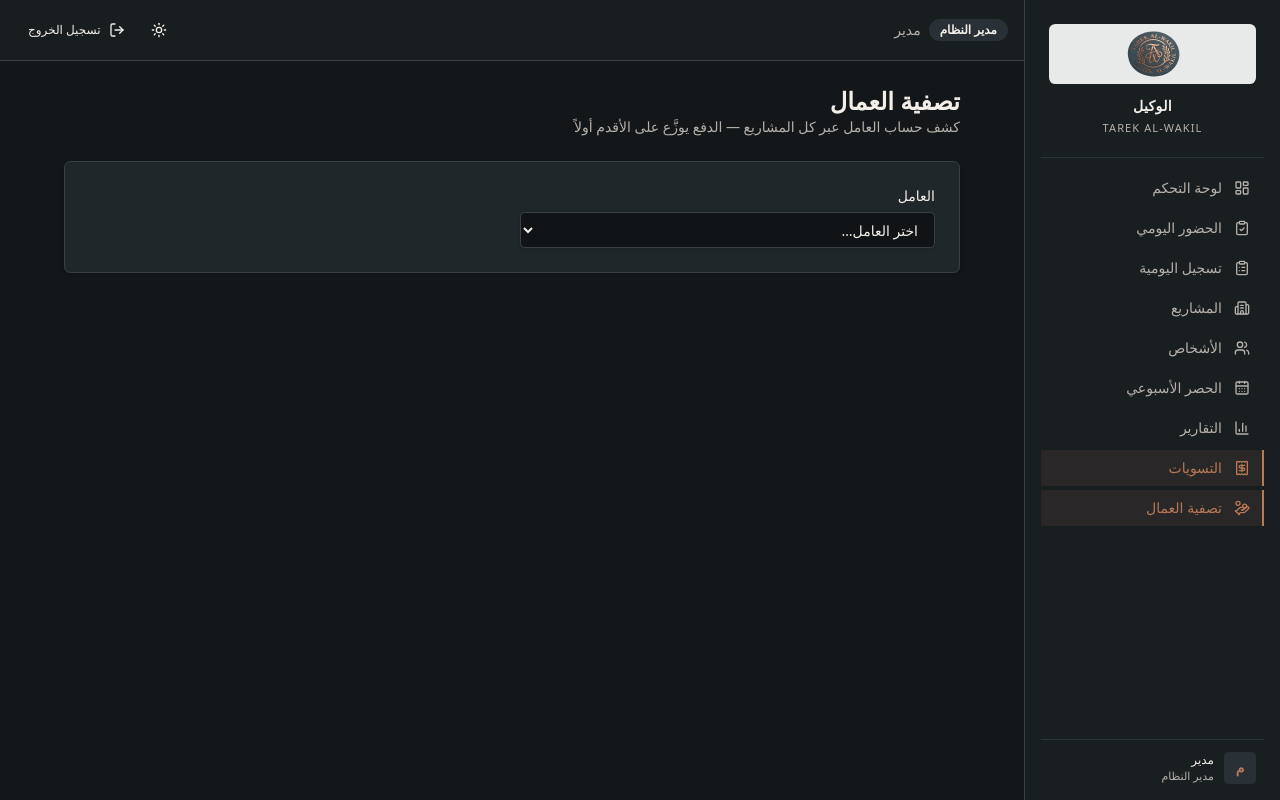
it: WorkerSettlementPage › pays with the remaining default and shows the allocation
Select "أحمد حسن" in the dropdown labelled "العامل" at coordinates (728, 230), box [520,212,935,248]
(page scrolled)
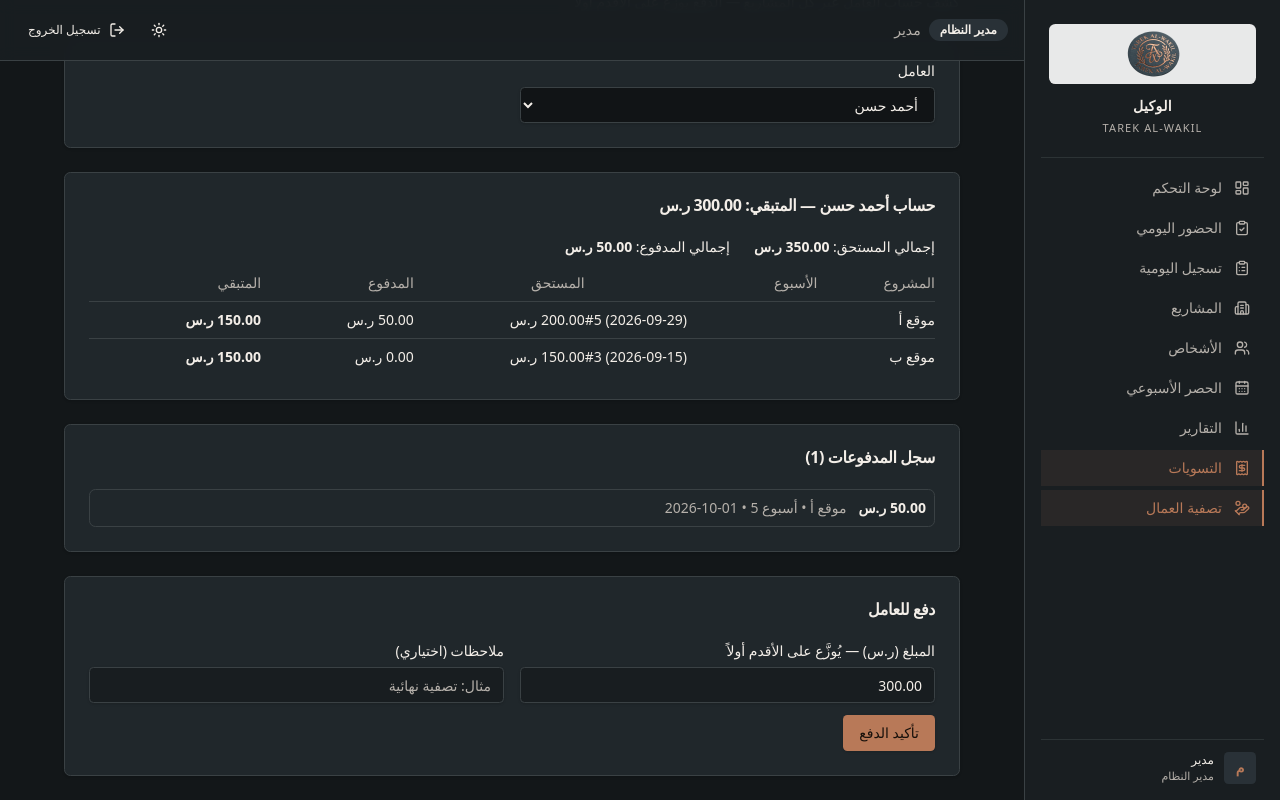
Now the text "حساب أحمد حسن — المتبقي: 300.00 ر.س" is shown, box [659,194,935,216]
Click the button "تأكيد الدفع" at coordinates (889, 733), box [843,715,935,751]
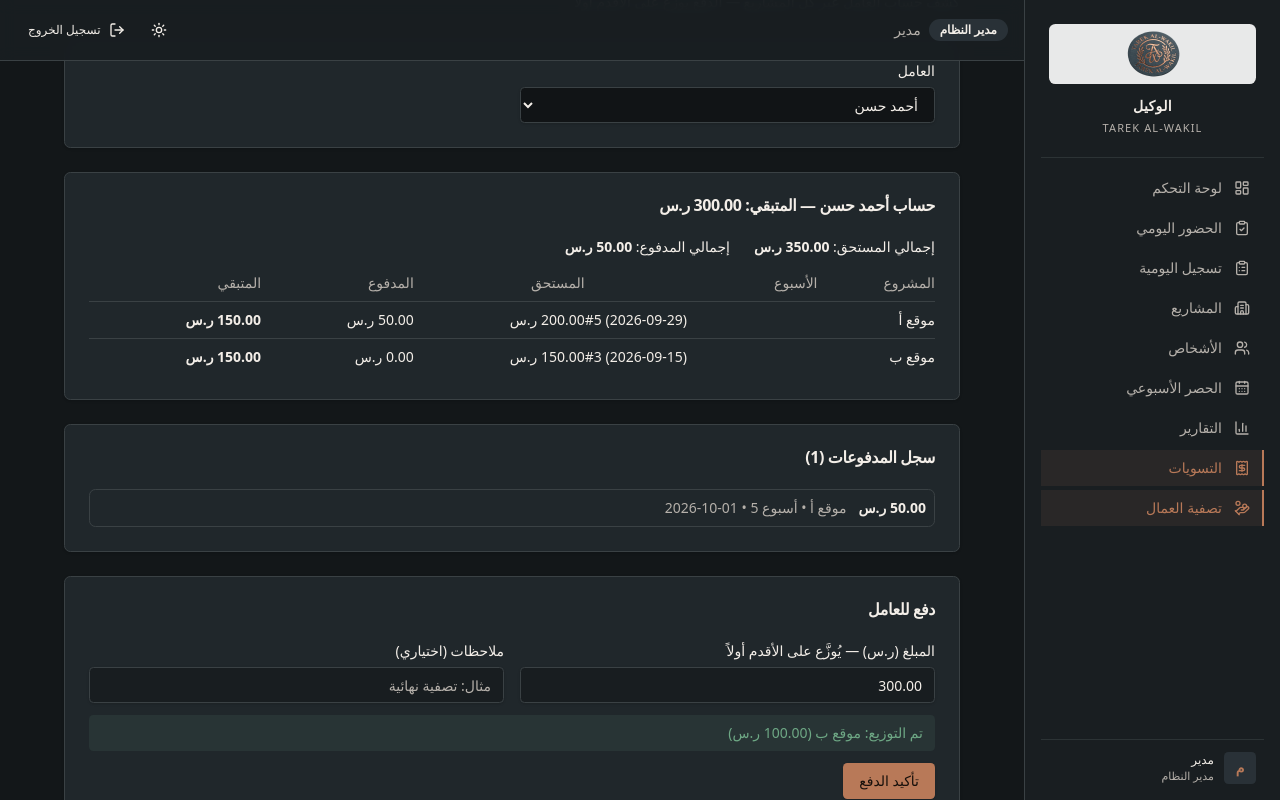
Now the text "تم التوزيع:" is shown, box [865,723,923,742]
